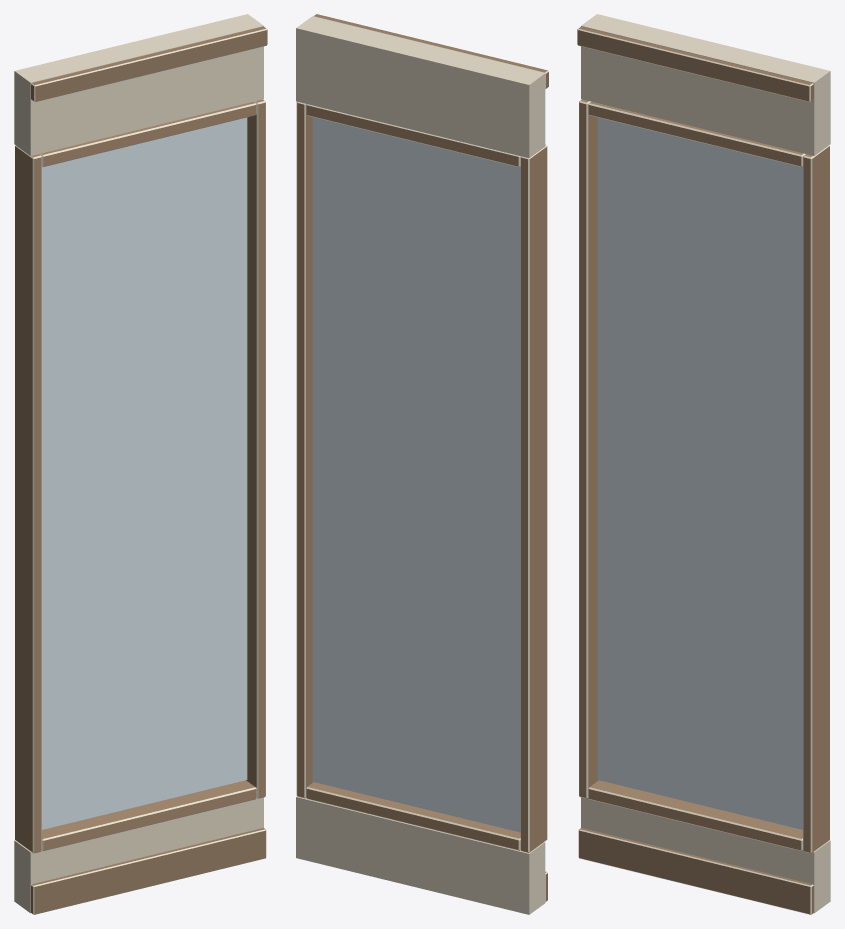
File: ventanal_340.glb
3 renders of one model, left to right at view 1: azimuth 30°, elevation 25°; view 2: azimuth 150°, elevation 25°; view 3: azimuth 330°, elevation 25°, orthographic.
Parts seen in each view (by area): view 1: ventanal_340; view 2: ventanal_340; view 3: ventanal_340.
Part boxes in pixels (box(x1,y1,x2,y2)): ventanal_340: box(14, 14, 267, 914); ventanal_340: box(296, 14, 548, 914); ventanal_340: box(577, 14, 830, 914).
Bounding box in the file's own units: 1 × 3.4 × 0.15.
